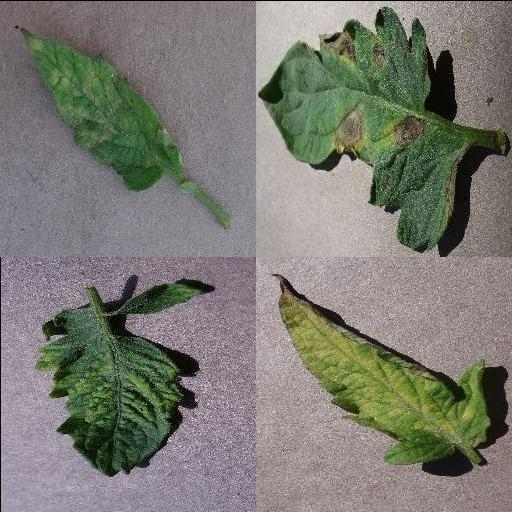Early Blight: (259, 6, 467, 247)
Leaf Mold: (278, 290, 490, 462), (23, 29, 181, 191)
Mosaic Virus: (35, 281, 209, 479)
